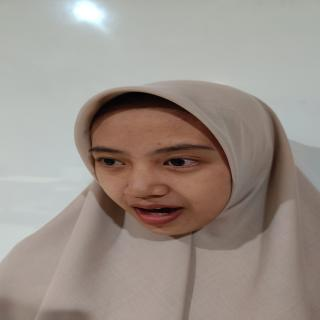Takut: (77, 96, 255, 247)
